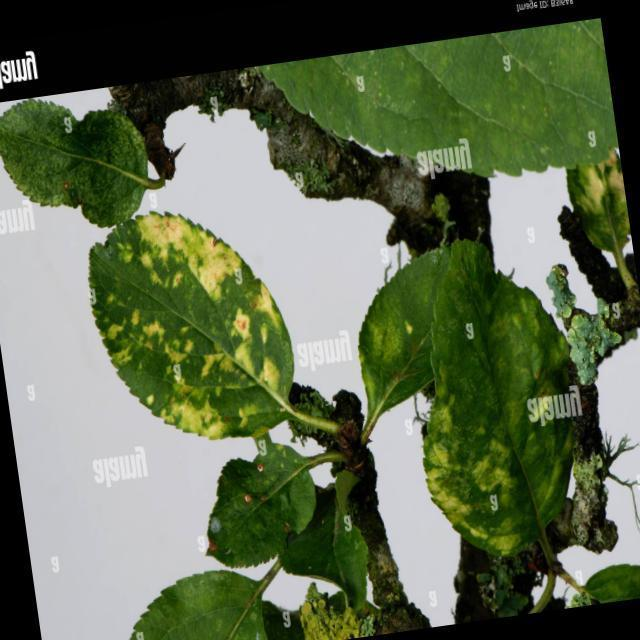Mosaic Virus: (71, 186, 305, 480), (404, 400, 524, 570)
